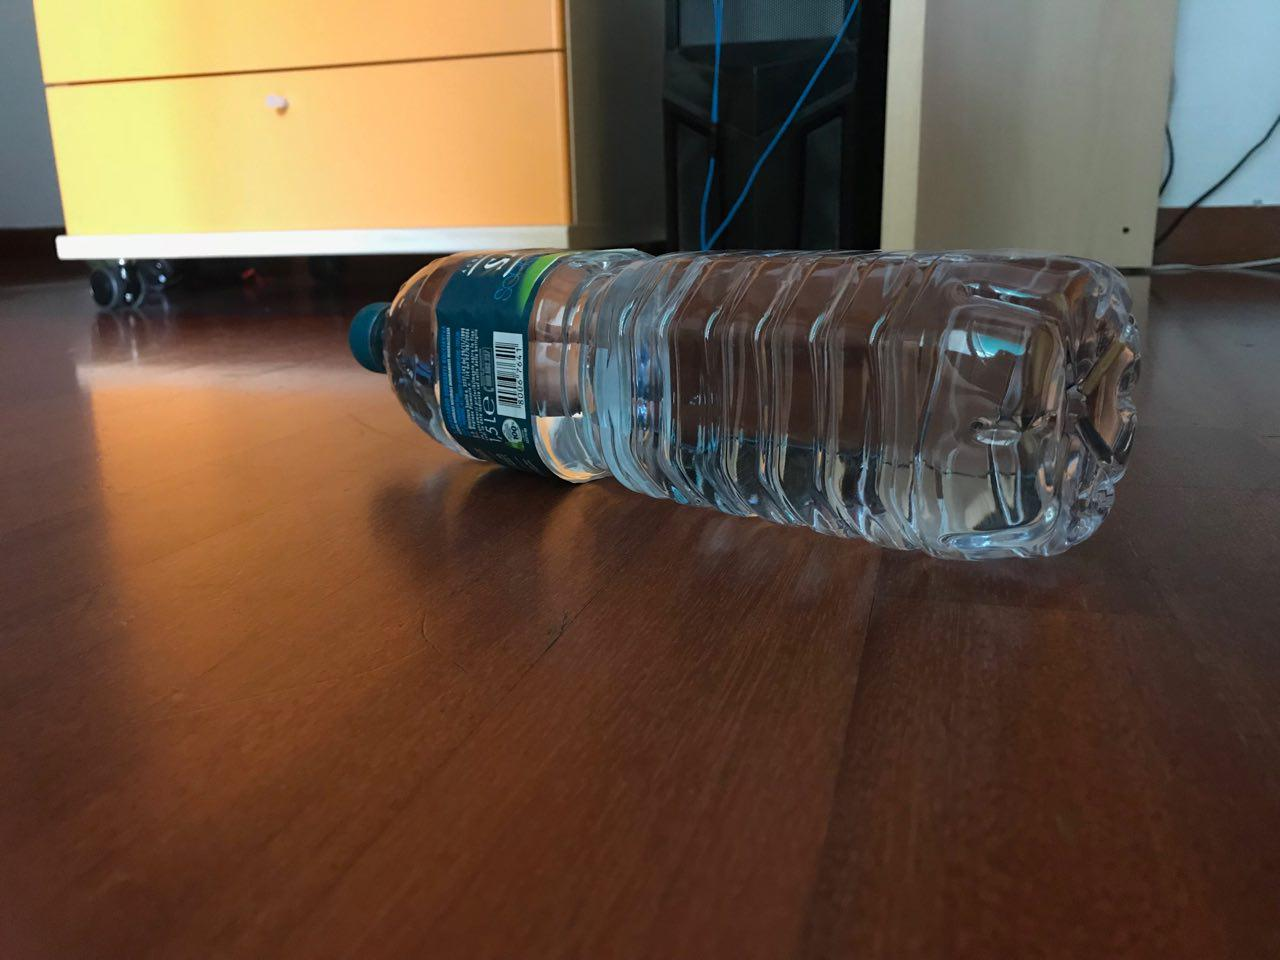san_bernardo: (345, 246, 1143, 563)
